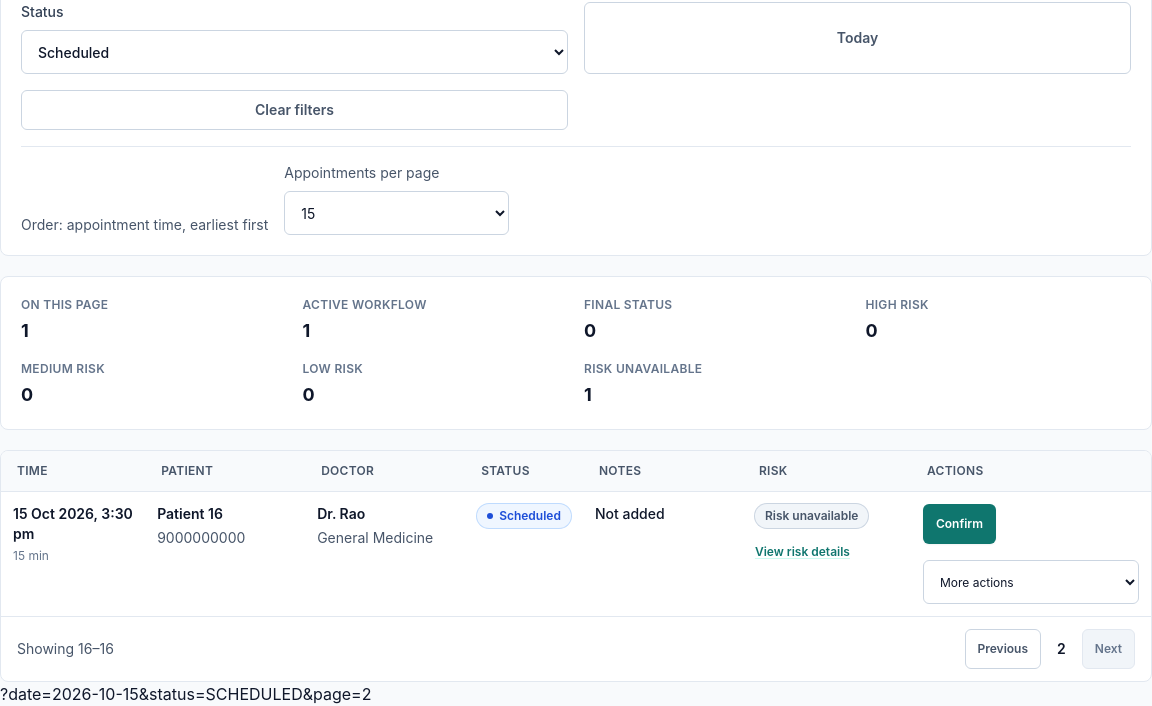
Scenario: AppointmentsPage primary status action › restores a filtered page, retains it through a dialog, then reconciles after a status change
This screenshot has width=1152, height=706.
(page scrolled)
Check: the text "Patient 16" is shown, box x1=157 y1=505 x2=223 y2=522
Step 1. Click the button with aria-label "View risk details for Patient 16" → [802, 552], box x1=755 y1=532 x2=850 y2=572
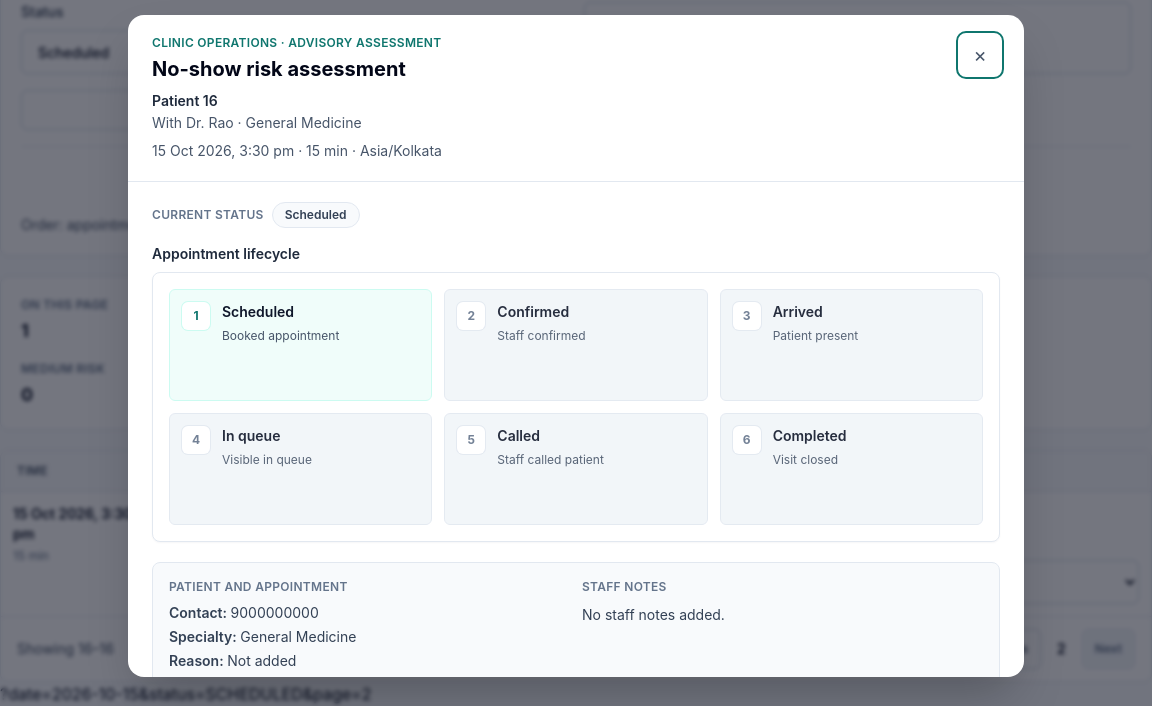
Check: the dialog "No-show risk assessment" is shown
Step 2. Press Escape
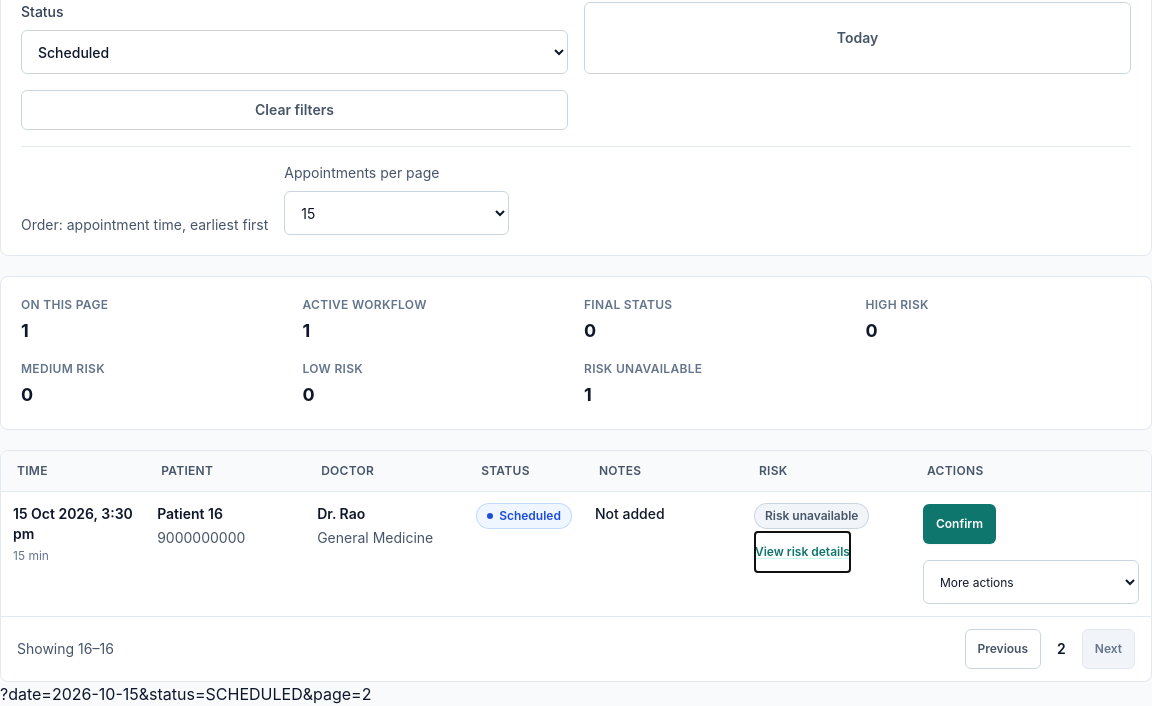
Check: the text with test id "appointment-query" shows "page=2", box x1=0 y1=684 x2=371 y2=704
Step 3. Click the button "Confirm" → [959, 524], box x1=923 y1=504 x2=996 y2=544
(page scrolled)
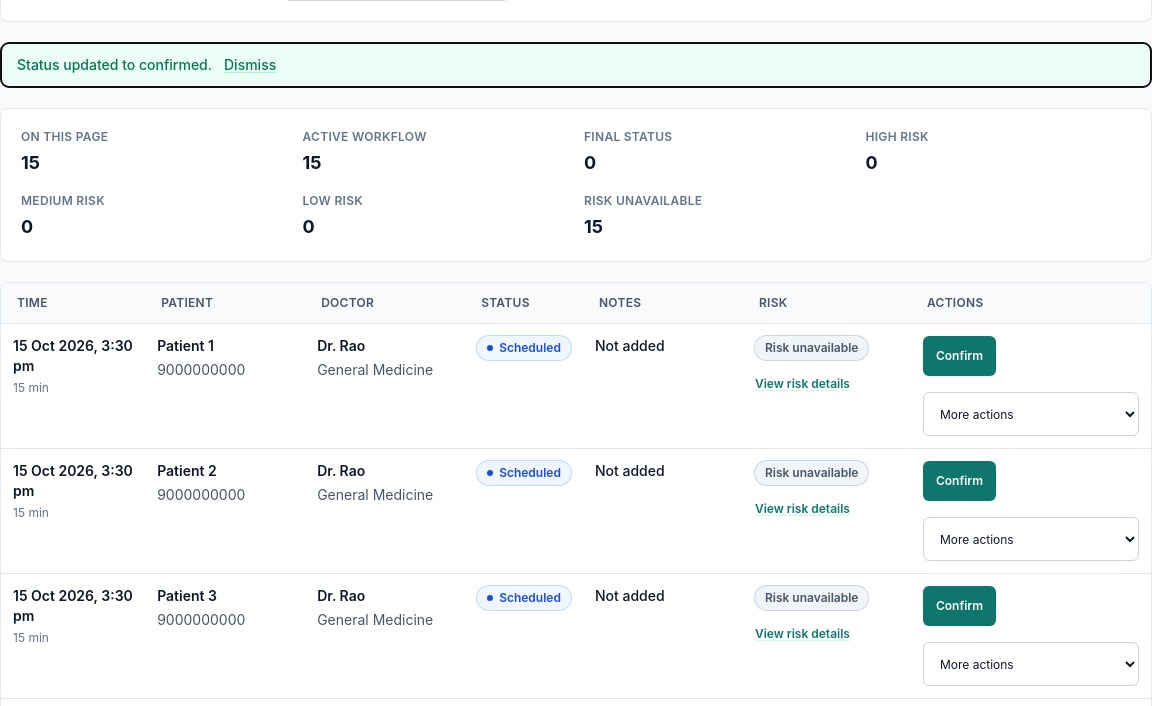
Check: the text "Patient 1" is shown, box x1=157 y1=337 x2=214 y2=354
Check: the text "Patient 16" is gone
